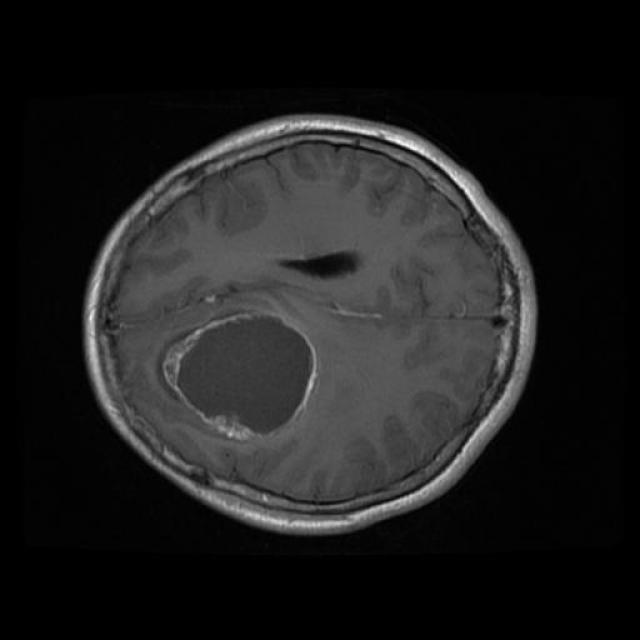Glioma: (163, 312, 316, 440)
